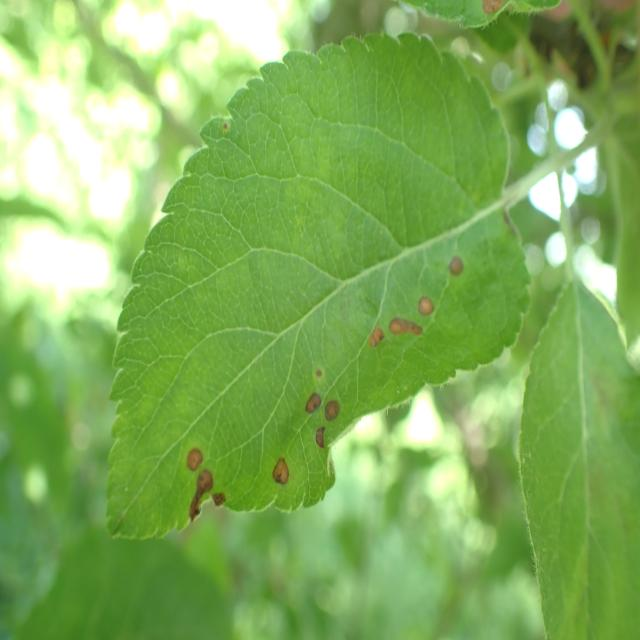frog-eye-leaf-spot: (102, 30, 534, 542), (394, 0, 563, 31)
